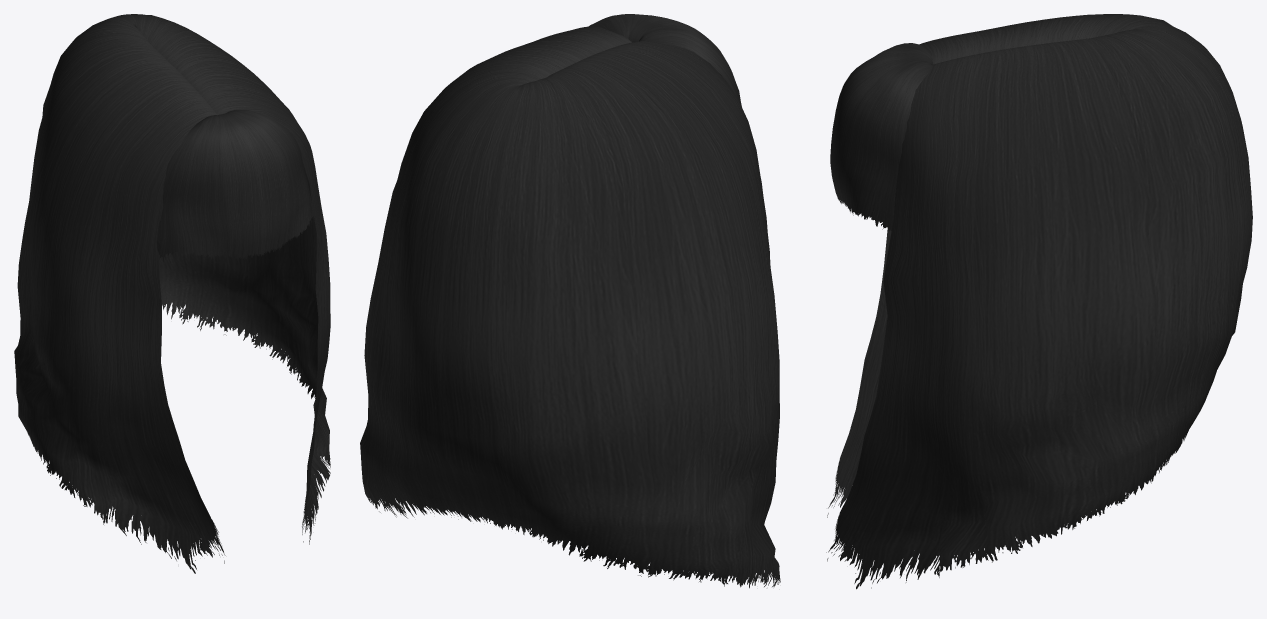
File: mh_toigo_inverted_bob_with_bangs.glb
3 views of the same model, side by side, from view 1: azimuth 30°, elevation 25°; view 2: azimuth 150°, elevation 25°; view 3: azimuth 270°, elevation 25° (orthographic). The views are drawn at different scales.
Parts seen in each view (by area): view 1: mh_toigo_inverted_bob_with_bangs; view 2: mh_toigo_inverted_bob_with_bangs; view 3: mh_toigo_inverted_bob_with_bangs.
Part boxes in pixels (x1,y1,x2,y2): mh_toigo_inverted_bob_with_bangs: (14, 14, 330, 573); mh_toigo_inverted_bob_with_bangs: (360, 14, 780, 588); mh_toigo_inverted_bob_with_bangs: (826, 14, 1252, 589).
Bounding box in the file's own units: 0.2095 × 0.3477 × 0.2505.
1 material, 1 textured.
